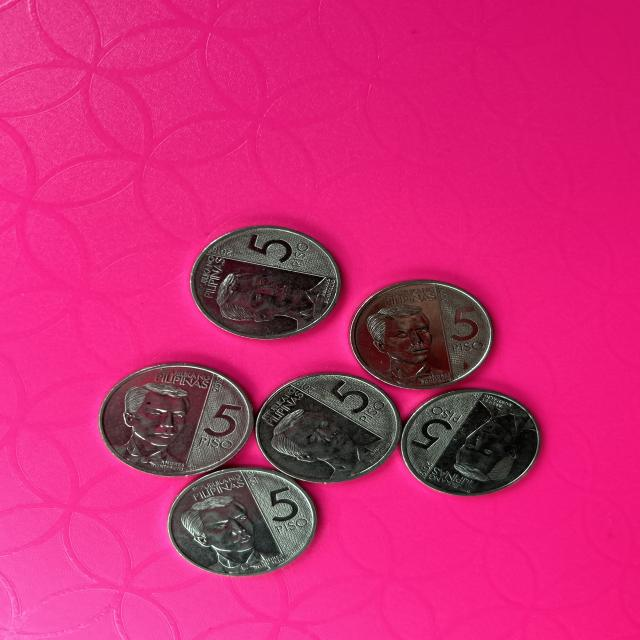5_New_Front: (321, 376, 384, 427), (245, 231, 319, 274), (254, 485, 312, 534), (404, 404, 463, 450), (436, 302, 485, 356), (194, 400, 242, 452)
